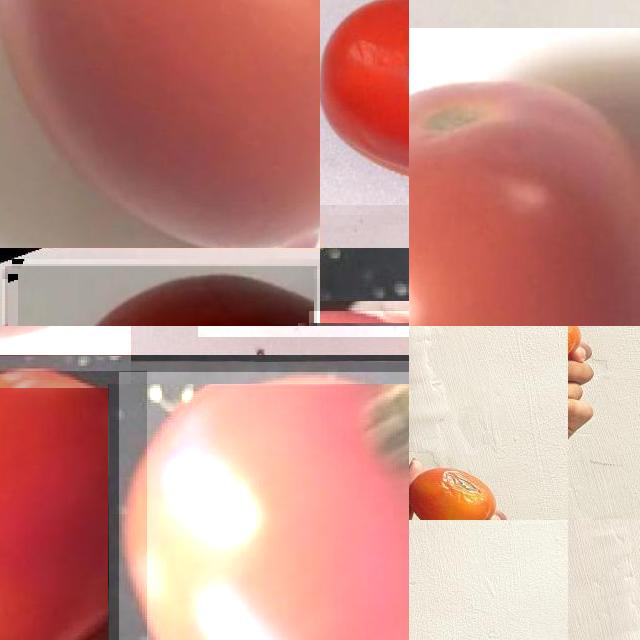Fresh Tomato: (0, 0, 320, 248), (119, 372, 409, 640), (409, 28, 640, 326), (0, 371, 147, 640)
Rotten Tomato: (320, 0, 409, 215)
